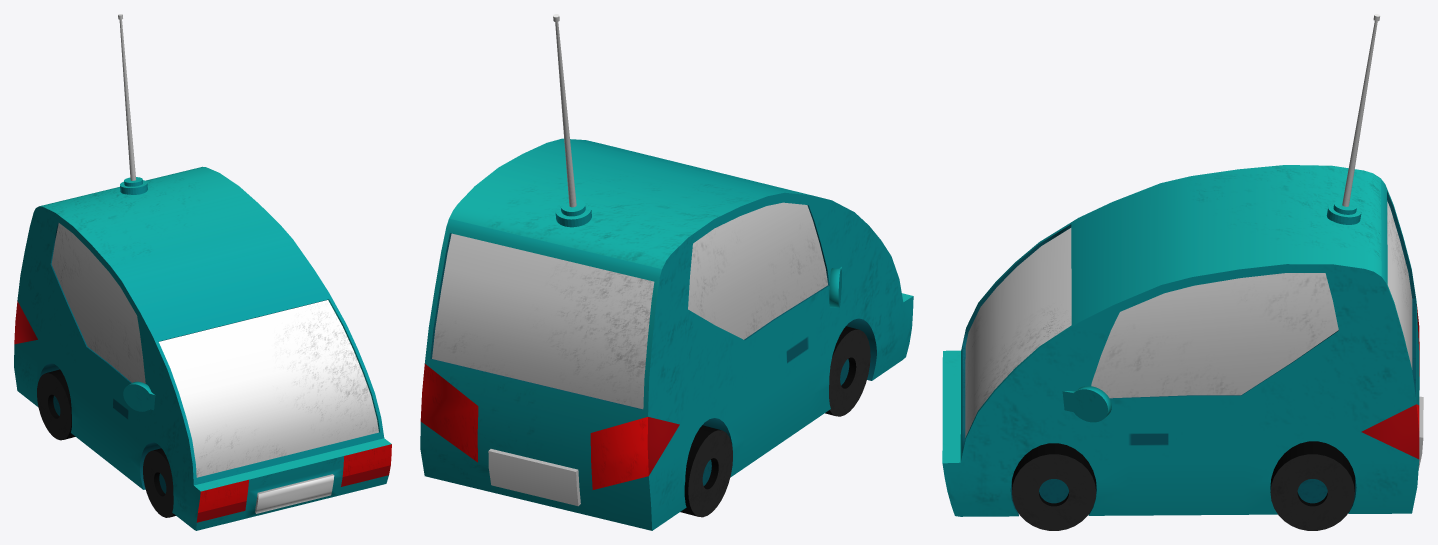
File: 소형차 카트.fbx
3 renders of one model, left to right at view 1: azimuth 30°, elevation 25°; view 2: azimuth 150°, elevation 25°; view 3: azimuth 270°, elevation 25°, orthographic. The views are drawn at different scales.
Visible parts, largest first — view 1: Cylinder; view 2: Cylinder; view 3: Cylinder.
Boxes of the visible parts, <box> form: Cylinder: <box>14,14,391,530</box>; Cylinder: <box>420,14,913,530</box>; Cylinder: <box>942,14,1423,530</box>.
Bounding box in the file's own units: 297 × 510 × 478.
1 material, 1 textured.
